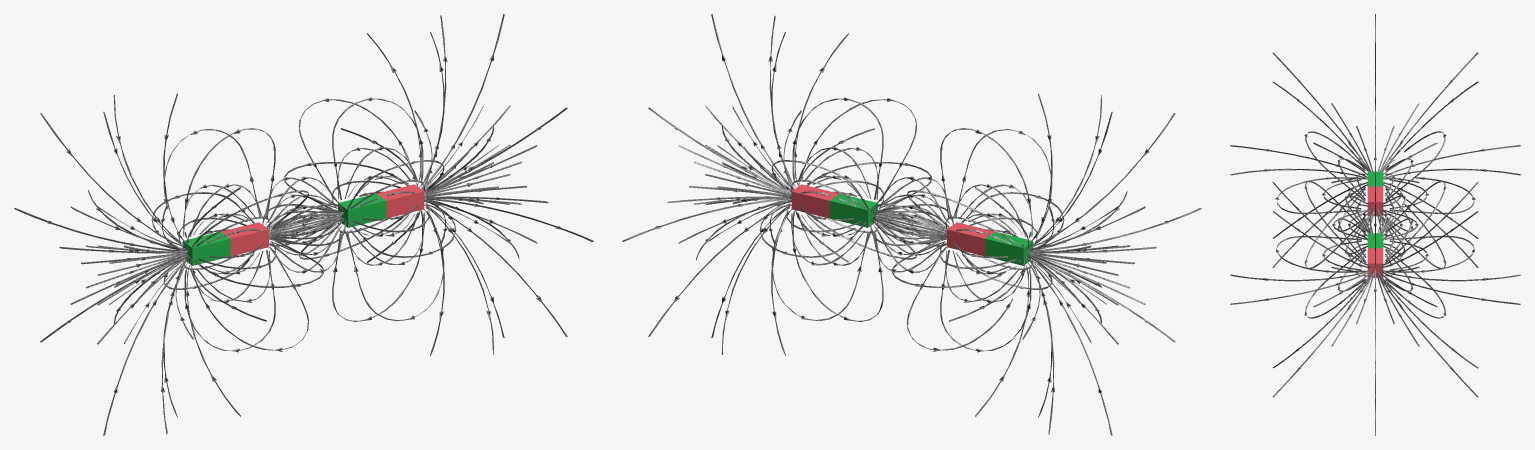
Rendered from magnets_attracting_field.glb.
3 renders of one model, left to right at view 1: azimuth 30°, elevation 25°; view 2: azimuth 150°, elevation 25°; view 3: azimuth 270°, elevation 25°, orthographic. The views are drawn at different scales.
Parts seen in each view (by area): view 1: Object_135, Object_130, Object_137, Object_132; view 2: Object_135, Object_130, Object_137, Object_132; view 3: Object_132, Object_137, Object_252, Object_117, Object_123, Object_309.
Boxes of the visible parts, <box> form: Object_135: <box>338,193,386,227</box>; Object_130: <box>182,232,230,265</box>; Object_137: <box>377,184,424,218</box>; Object_132: <box>221,222,268,256</box>; Object_135: <box>829,193,877,227</box>; Object_130: <box>985,232,1033,265</box>; Object_137: <box>791,184,838,218</box>; Object_132: <box>947,222,994,256</box>; Object_132: <box>1367,186,1383,216</box>; Object_137: <box>1367,248,1383,277</box>; Object_252: <box>1384,180,1446,263</box>; Object_117: <box>1389,236,1474,272</box>; Object_123: <box>1382,271,1520,304</box>; Object_309: <box>1272,52,1369,171</box>.
Bounding box in the file's own units: 0.1941 × 0.1455 × 0.1455.
3 materials, 1 textured.
